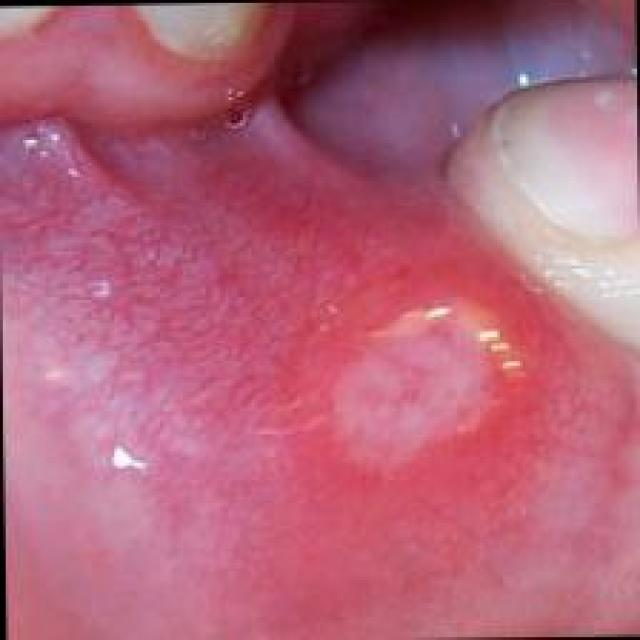processing_area: (4, 13, 637, 637)
ulcer-detection: (314, 269, 542, 524)
